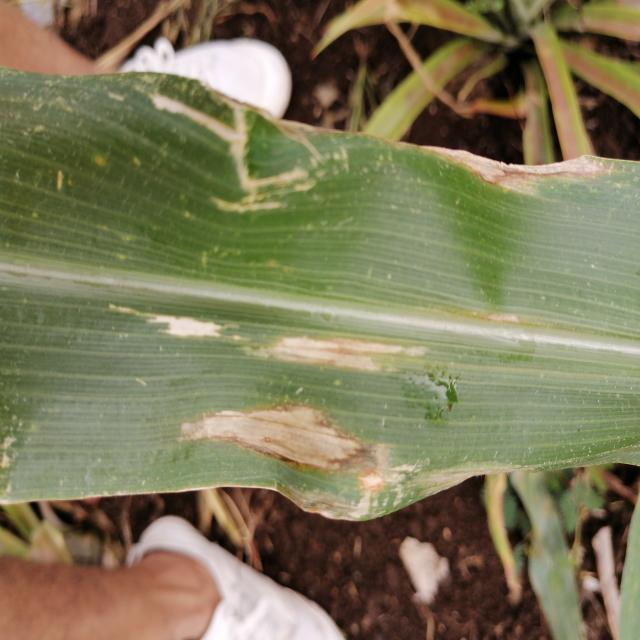Corn_Leaf_Blight: (0, 70, 640, 524)
